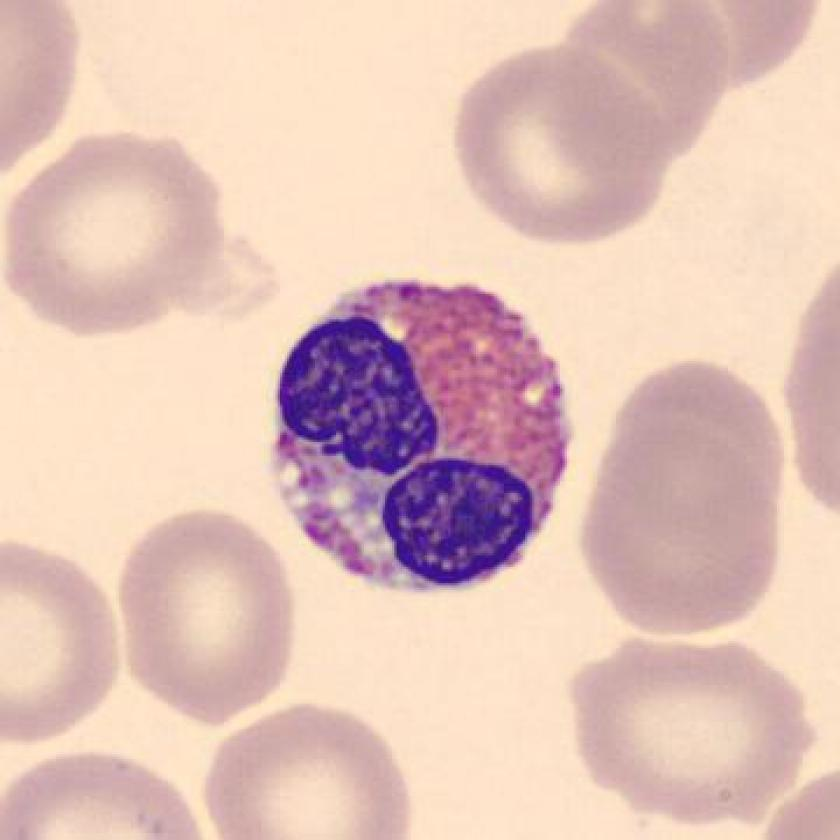eosinophil: (255, 267, 587, 605)
